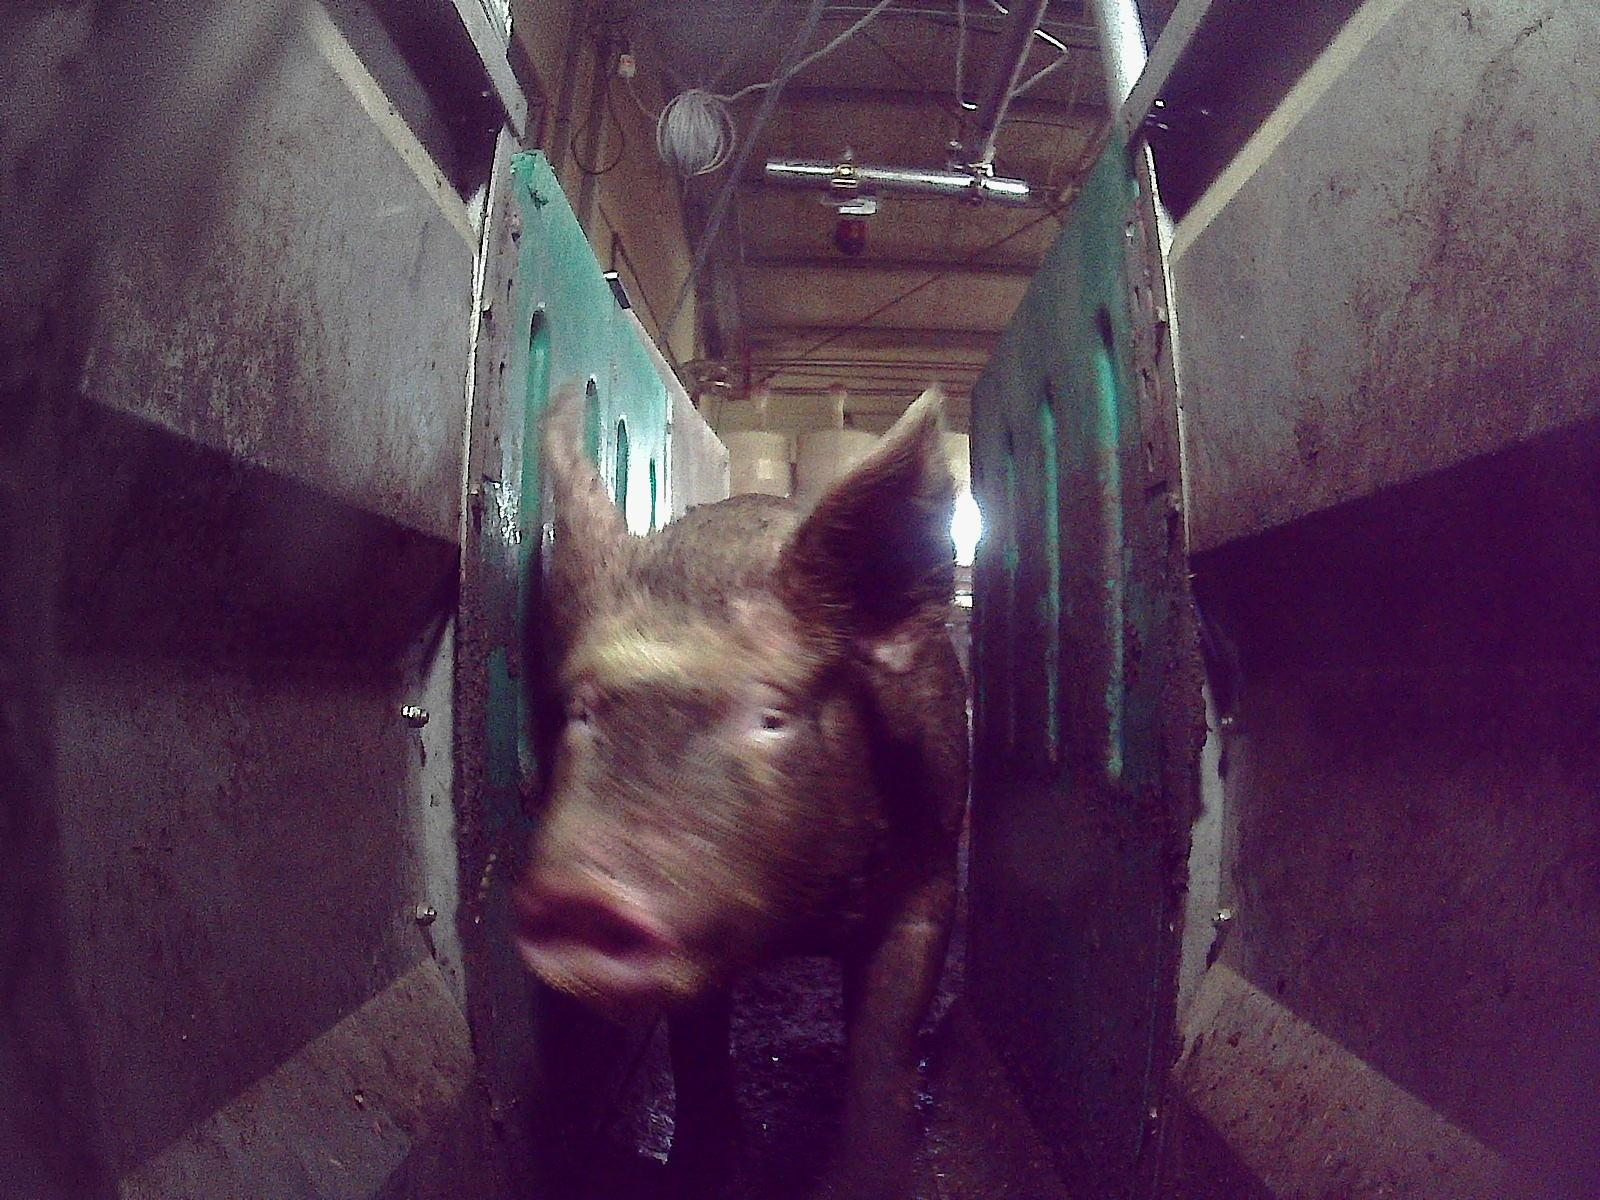Face: (509, 539, 873, 1016)
